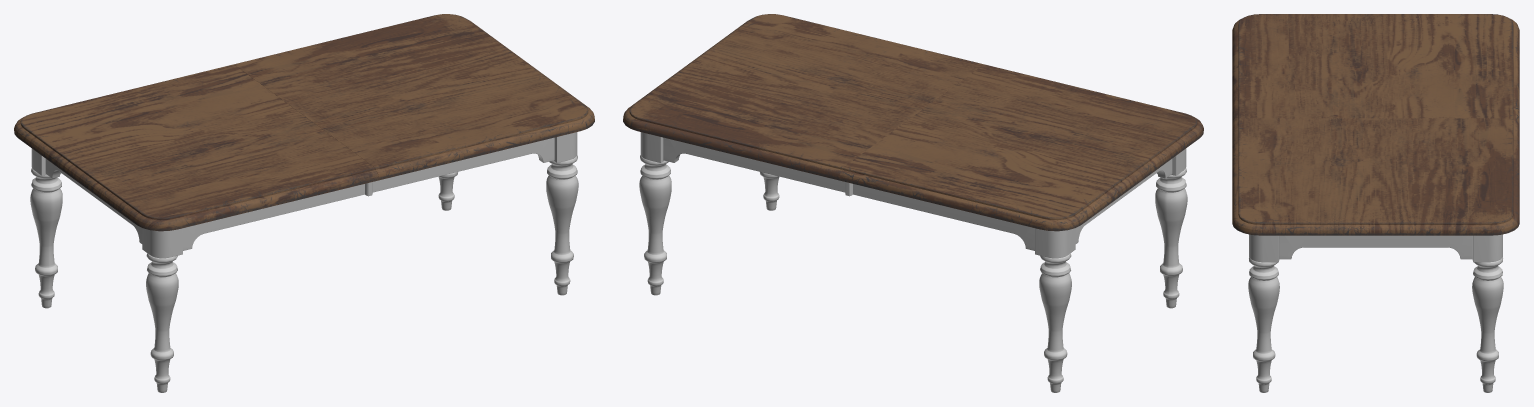
The model's file is FarmTable_Textured.fbx.
The picture shows the model from 3 angles, left to right: view 1: azimuth 30°, elevation 25°; view 2: azimuth 150°, elevation 25°; view 3: azimuth 270°, elevation 25°; orthographic projection. The views are drawn at different scales.
Visible parts, largest first — view 1: Table_Top_Lt_low, Table_Leg_01_low, Table_Frame_Front_Lt_low, Table_Frame_End_Lt_01_low, Table_Frame_Side_Lt_low; view 2: Table_Top_Lt_low, Table_Leg_01_low, Table_Frame_Front_Lt_low, Table_Frame_End_Lt_01_low, Table_Frame_Side_Lt_low; view 3: Table_Top_Lt_low, Table_Leg_01_low, Table_Frame_Side_Lt_low, Table_Frame_End_Lt_01_low.
Part boxes in pixels (bbox=[...]): Table_Top_Lt_low: bbox=[14, 14, 594, 231]; Table_Leg_01_low: bbox=[30, 155, 578, 392]; Table_Frame_Front_Lt_low: bbox=[183, 137, 554, 250]; Table_Frame_End_Lt_01_low: bbox=[31, 132, 577, 258]; Table_Frame_Side_Lt_low: bbox=[45, 159, 142, 243]; Table_Top_Lt_low: bbox=[623, 14, 1203, 231]; Table_Leg_01_low: bbox=[639, 155, 1187, 392]; Table_Frame_Front_Lt_low: bbox=[663, 137, 1034, 250]; Table_Frame_End_Lt_01_low: bbox=[640, 132, 1186, 258]; Table_Frame_Side_Lt_low: bbox=[1075, 159, 1172, 243]; Table_Top_Lt_low: bbox=[1232, 14, 1519, 235]; Table_Leg_01_low: bbox=[1248, 257, 1503, 392]; Table_Frame_Side_Lt_low: bbox=[1279, 235, 1472, 259]; Table_Frame_End_Lt_01_low: bbox=[1249, 234, 1502, 262].
Bounding box in the file's own units: 857 × 332 × 485.
